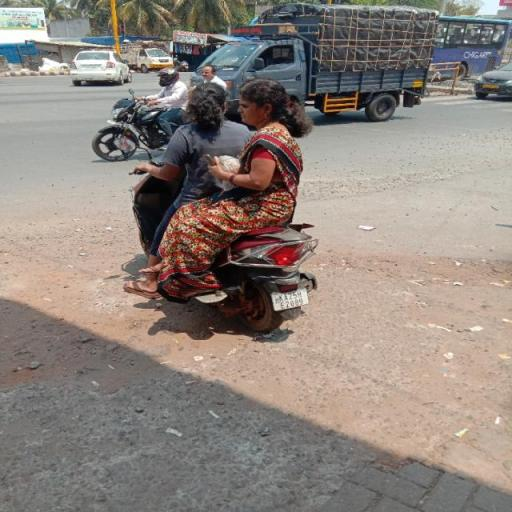bike: (123, 73, 326, 337)
numberplate: (268, 286, 312, 312)
withouthelmet: (238, 80, 281, 124), (187, 84, 226, 126)
